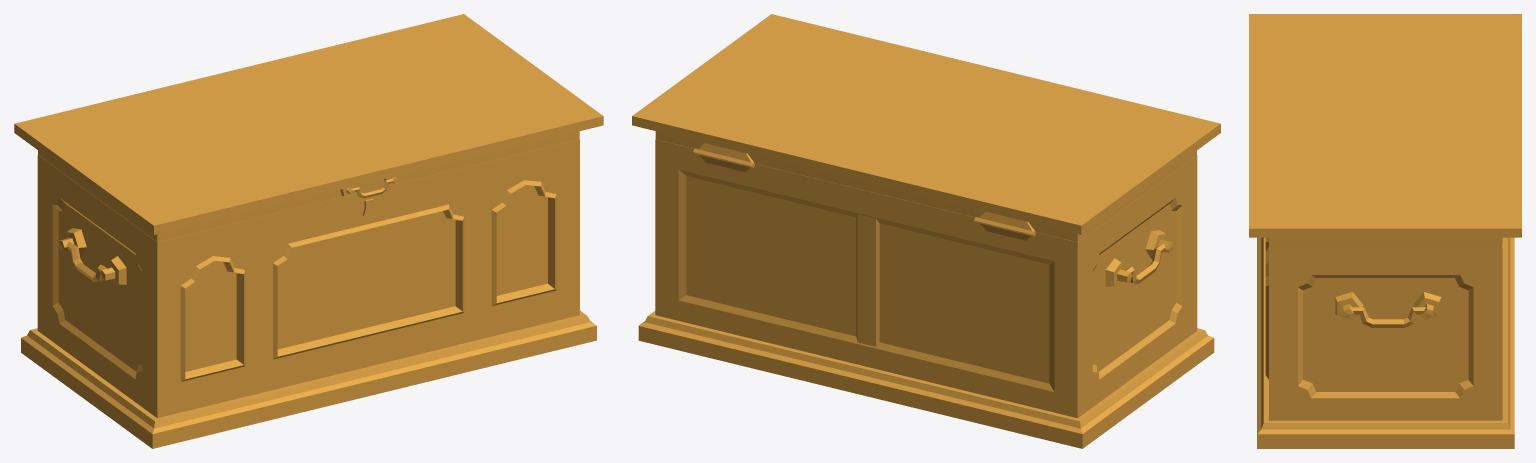
The model's file is SM_Chest_Victorian_A.fbx.
The picture shows the model from 3 angles, left to right: view 1: azimuth 30°, elevation 25°; view 2: azimuth 150°, elevation 25°; view 3: azimuth 270°, elevation 25°; orthographic projection. The views are drawn at different scales.
Parts seen in each view (by area): view 1: chest-victorian-a-base, chest-victorian-a-lid; view 2: chest-victorian-a-base, chest-victorian-a-lid; view 3: chest-victorian-a-lid, chest-victorian-a-base.
Part boxes in pixels (box(x1,y1,x2,y2)): chest-victorian-a-base: box(21, 139, 596, 448); chest-victorian-a-lid: box(14, 14, 603, 242); chest-victorian-a-base: box(638, 139, 1214, 448); chest-victorian-a-lid: box(632, 14, 1220, 242); chest-victorian-a-lid: box(1249, 14, 1521, 248); chest-victorian-a-base: box(1257, 237, 1514, 448).
Bounding box in the file's own units: 1 × 0.4797 × 0.5351.
